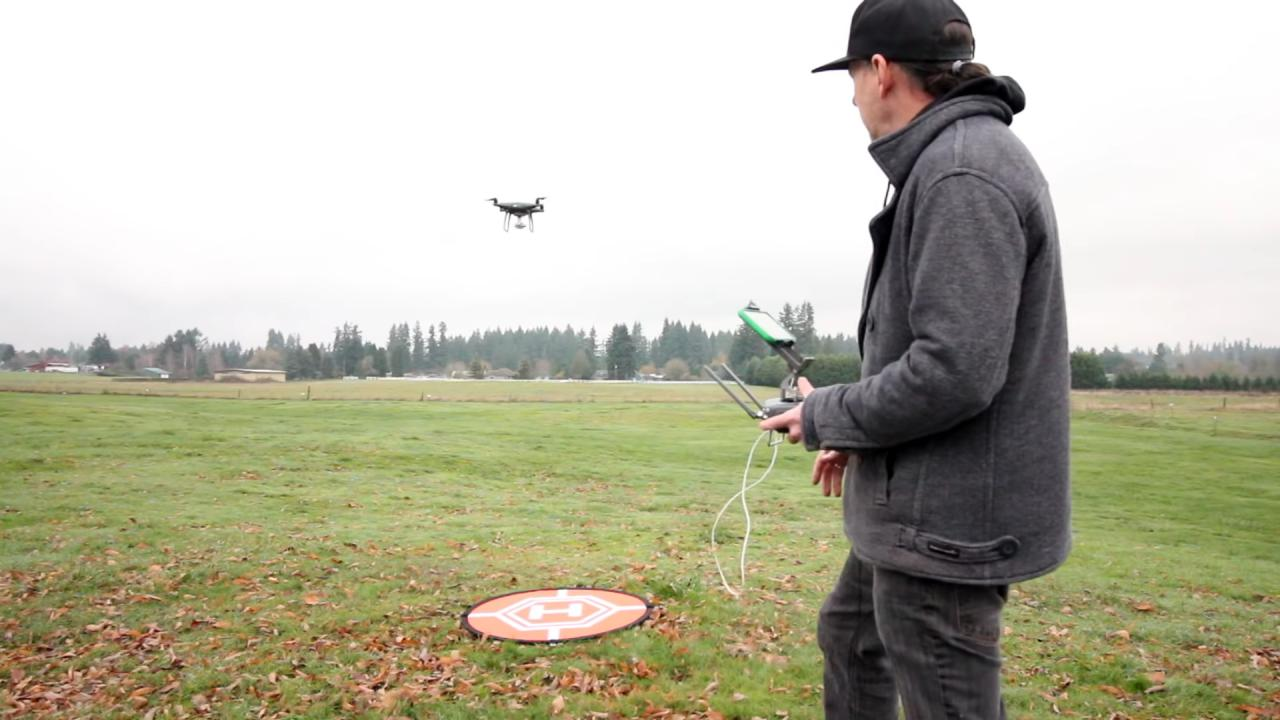Drone: (474, 193, 556, 242)
